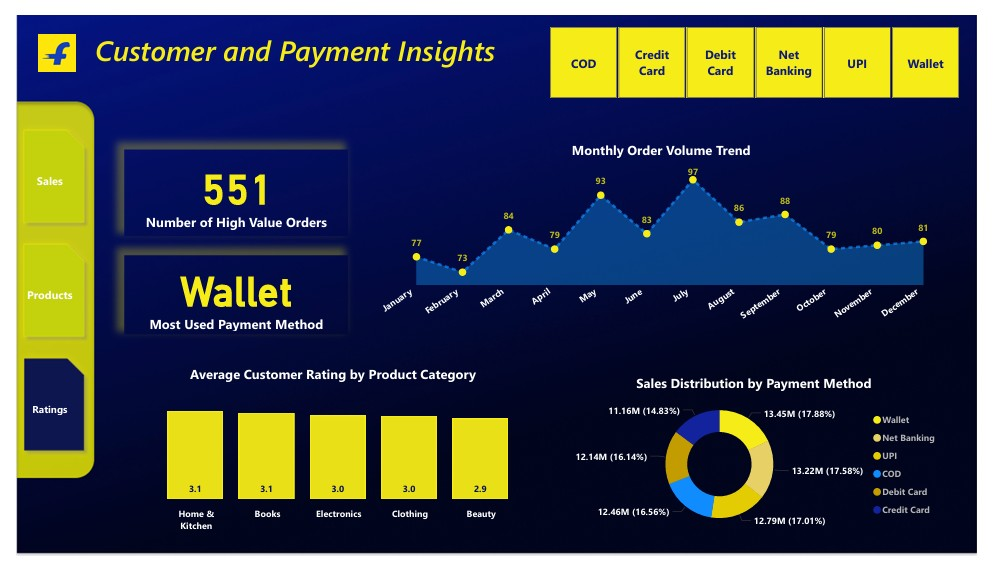

The page's visual inventory and layout, read from the dashboard file:
{"tool":"powerbi","page":{"name":"Ratings","canvas":[1280,720],"ordinal":2},"visuals":[{"type":"pageNavigator","box":[0,142.8,99.1,448.5],"z":0},{"type":"image","box":[23.5,0,60.5,99.1],"z":1000},{"type":"textbox","box":[99.1,15.1,564.4,65.5],"z":2000},{"type":"donutChart","title":"Sales Distribution by Payment Method","fields":{"Category":["public flipkart_sales.payment_method"],"Y":["Sum(public flipkart_sales.total_sales_inr)"]},"box":[727.3,477.1,510.7,218.4],"z":3000},{"type":"columnChart","title":"Average Customer Rating by Product Category","fields":{"Category":["public flipkart_sales.category"],"Y":["Avg(public flipkart_sales.customer_rating)"]},"box":[142.8,465.3,557.7,230.1],"z":4000},{"type":"areaChart","title":"Monthly Order Volume Trend","fields":{"Category":["public flipkart_sales.order_date.Variation.Date Hierarchy.Month"],"Y":["CountNonNull(public flipkart_sales.order_id)"]},"box":[480.4,166.3,757.6,258.7],"z":5000},{"type":"card","fields":{"Values":["public flipkart_sales.High Value Orders"]},"box":[142.8,178.1,299,115.9],"z":6000},{"type":"card","fields":{"Values":["Min(public flipkart_sales.payment_method)"]},"box":[142.8,319.2,299,105.8],"z":7000},{"type":"slicer","fields":{"Values":["public flipkart_sales.payment_method"]},"box":[685.4,8.4,594.6,107.5],"z":8000}]}

Visuals, with their boxes in screenshot pixels (x1, y1, x2, y2), scaled from the page's 1280x720 canvas onto the 993x570 screenshot:
pageNavigator: (0, 113, 77, 468)
image: (18, 0, 65, 78)
textbox: (77, 12, 515, 64)
"Sales Distribution by Payment Method" donutChart: (564, 378, 960, 551)
"Average Customer Rating by Product Category" columnChart: (111, 368, 543, 551)
"Monthly Order Volume Trend" areaChart: (373, 132, 960, 336)
card - public flipkart_sales.High Value Orders: (111, 141, 343, 233)
card - Min(public flipkart_sales.payment_method): (111, 253, 343, 336)
slicer - public flipkart_sales.payment_method: (532, 7, 992, 92)
